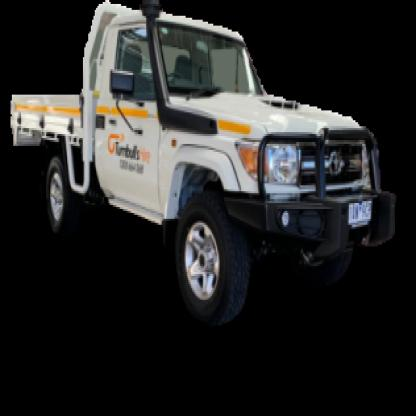light_vehicle: (9, 2, 396, 325)
